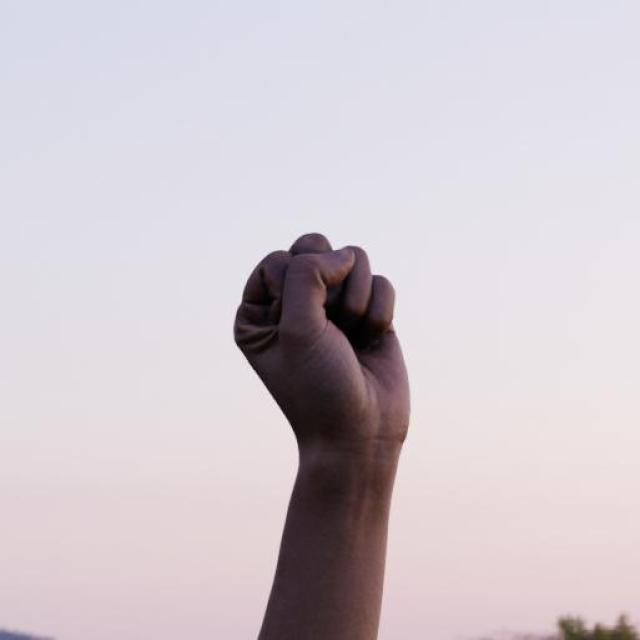S: (223, 226, 418, 450)
